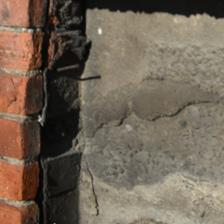Crack: (86, 75, 218, 138), (33, 5, 63, 222), (78, 152, 105, 217)
